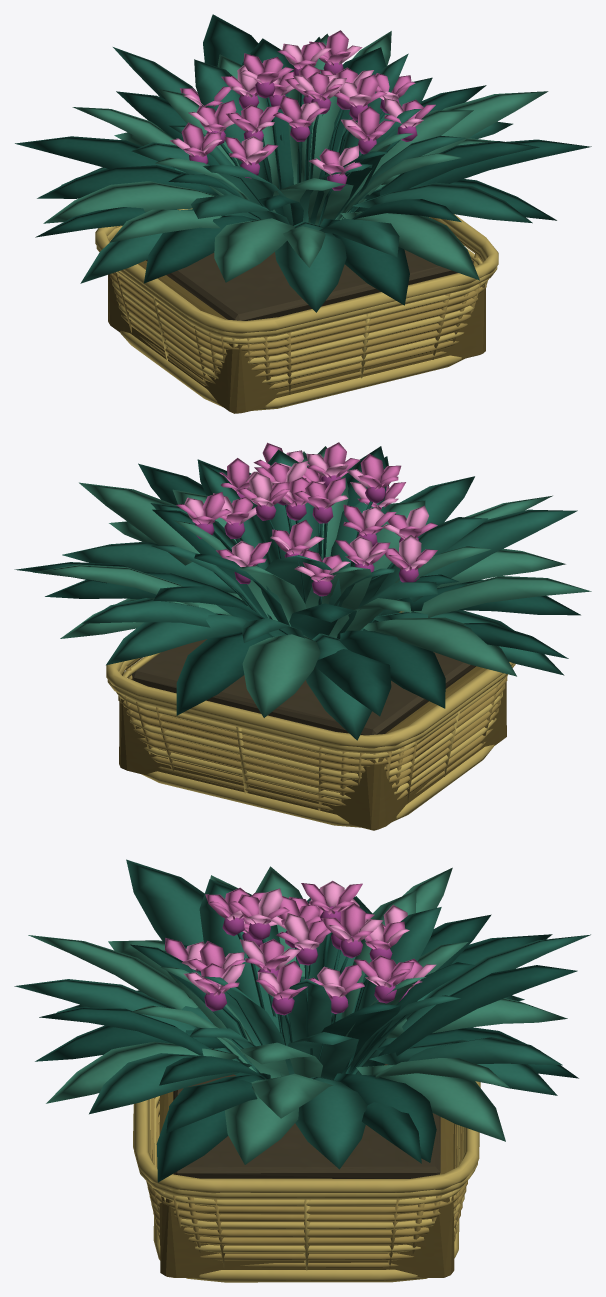
File: 02_Flower_Basket_LOD1.fbx
3 renders of one model, top to bottom at view 1: azimuth 30°, elevation 25°; view 2: azimuth 150°, elevation 25°; view 3: azimuth 270°, elevation 25°, orthographic. The views are drawn at different scales.
Visible parts, largest first — view 1: 02_Flower_Basket_LOD1_Mesh; view 2: 02_Flower_Basket_LOD1_Mesh; view 3: 02_Flower_Basket_LOD1_Mesh.
Boxes of the visible parts, bbox=[...] form: 02_Flower_Basket_LOD1_Mesh: bbox=[15, 14, 591, 413]; 02_Flower_Basket_LOD1_Mesh: bbox=[14, 442, 591, 830]; 02_Flower_Basket_LOD1_Mesh: bbox=[14, 859, 590, 1282].
Bounding box in the file's own units: 33.7 × 17.98 × 29.99.
1 material, 1 textured.
